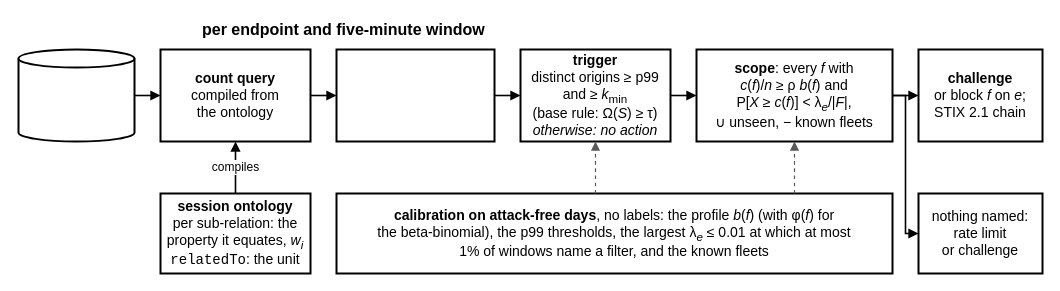
Some shapes in this 1060 by 291 pixel diagram are drawn without their labels. Here are the shapes that lost their labels. From the top down, the centre of each, then its label:
[76,95]: access log per request: JA4, source, endpoint
[415,95]: class sizes origins per JA4 c ( f ), origins n , /24 pairs
